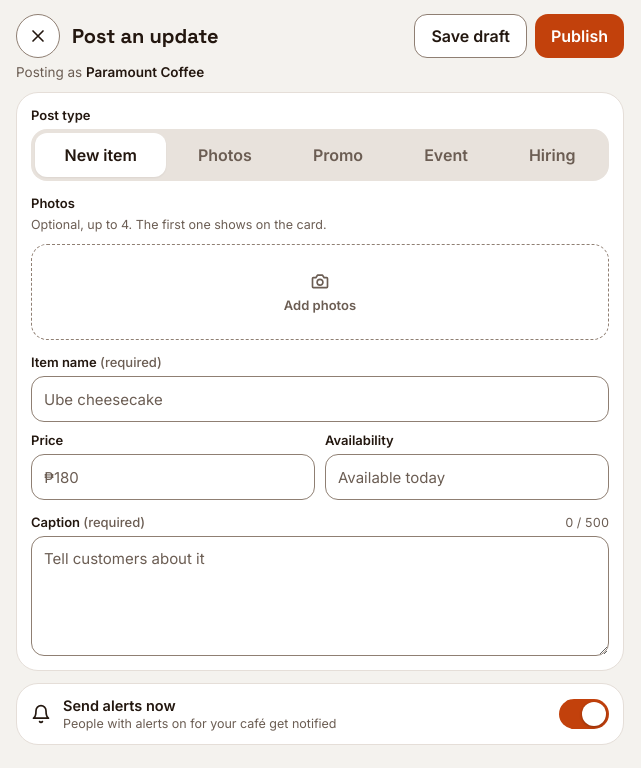
composer page › shows errors inline, focuses the first, and clears one as it is fixed
The width and height of the screenshot is (641, 768).
Click the button "Publish": (579, 36) top-left (535, 14), bottom-right (624, 58)
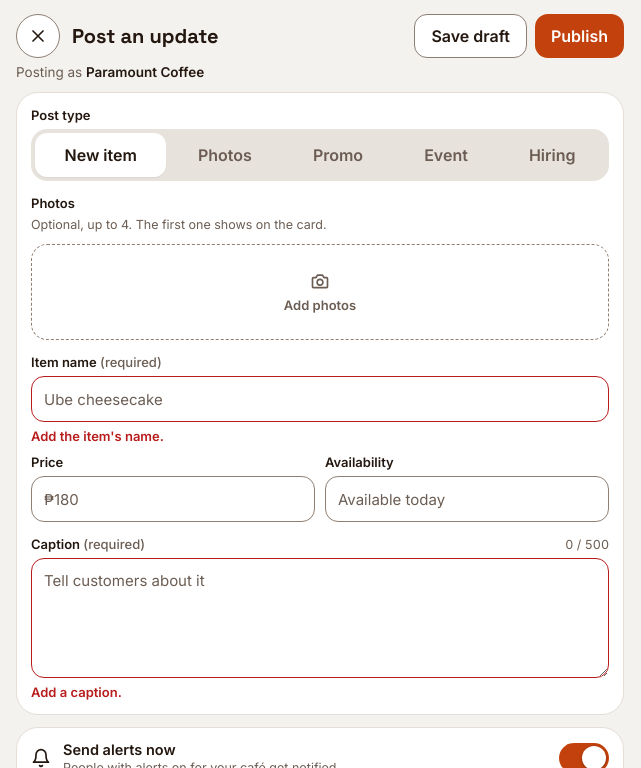
Expected: the text "Add a caption." is shown, top-left (31, 684), bottom-right (122, 700)
In the field labelled "Item name (required)": (320, 399) top-left (31, 376), bottom-right (609, 422), type "U"
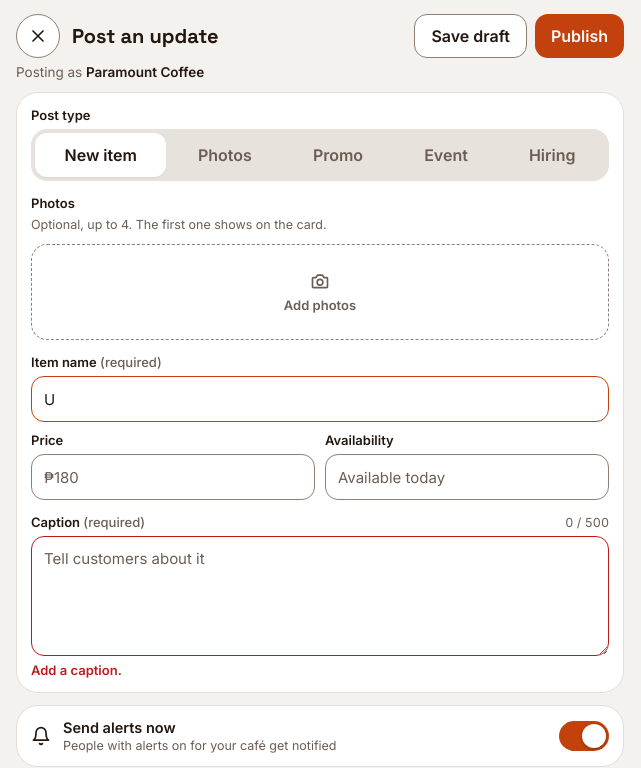
Expected: the text "Add the item's name." is gone
